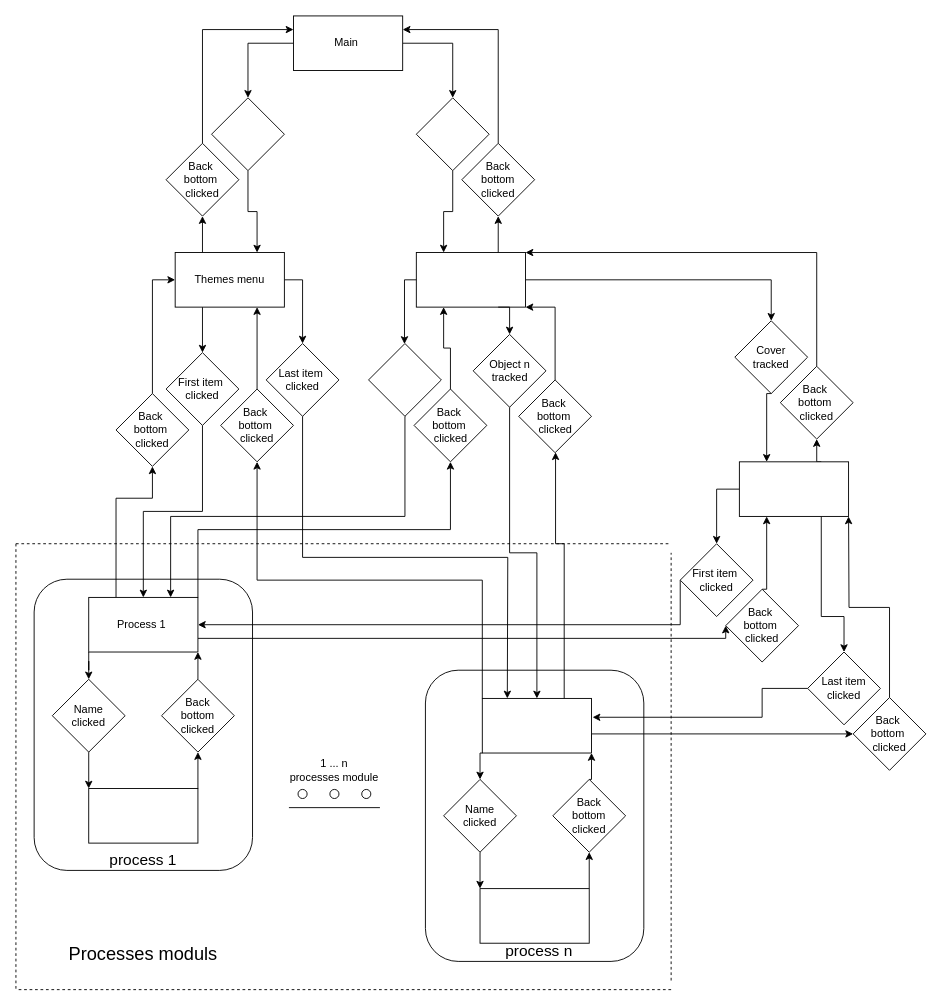
The diagram is 942 pixels wide and 1006 high, and some of its shapes have lost their labels. The box of each missing label's shape, as (x1, y1, x2, y2) in pixels:
Cam bottom clicked: (415, 97, 489, 171)
Object 1 tracked: (368, 343, 441, 416)
Process 1 describtion: (88, 788, 198, 843)
Process n (last): (481, 698, 592, 753)
Process n discribtion: (479, 888, 589, 943)
Themes menu on book cover: (738, 461, 849, 516)
Tracking page: (415, 252, 526, 307)
Without Cam bottom clicked: (211, 97, 284, 171)
